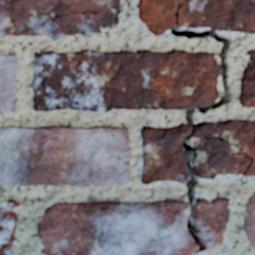brick: (33, 50, 220, 111), (0, 126, 130, 186), (0, 0, 119, 38), (0, 200, 18, 254), (0, 55, 17, 111), (240, 50, 254, 106), (244, 195, 254, 246)
broken_brick: (37, 200, 199, 254), (138, 0, 254, 36), (140, 122, 189, 185), (190, 120, 254, 156), (196, 197, 230, 252), (195, 149, 248, 179), (247, 163, 254, 176)
crack: (170, 2, 254, 252), (67, 70, 92, 109), (39, 70, 53, 111), (165, 253, 182, 254)
